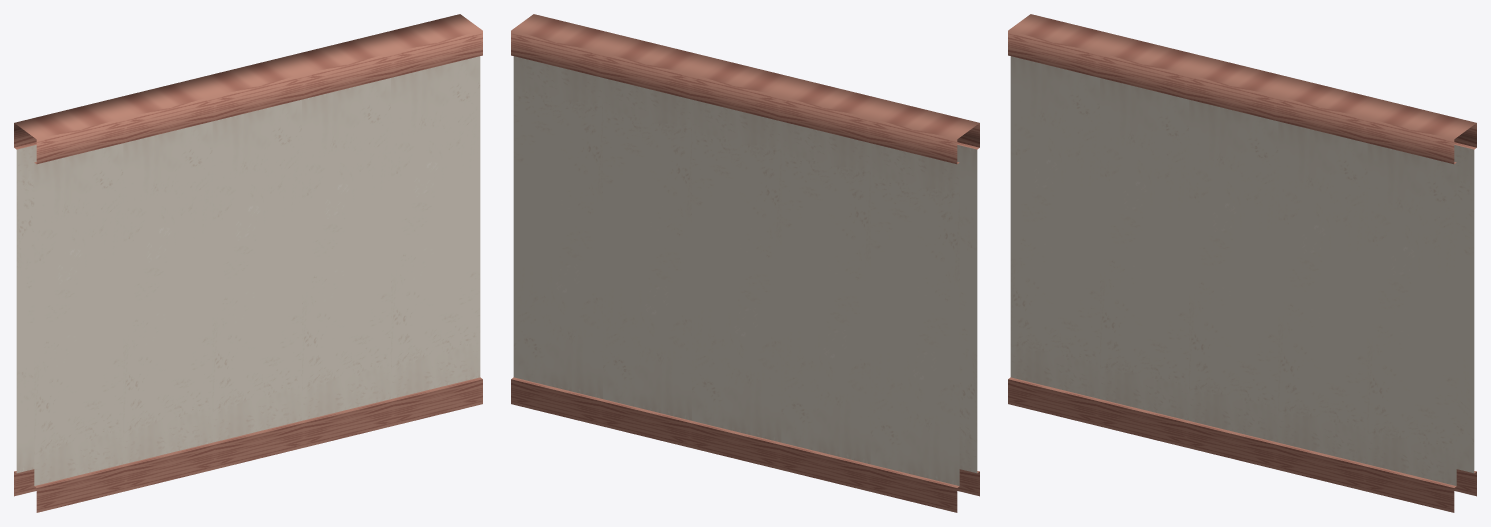
The model's file is paret_base_x5.fbx.
3 renders of one model, left to right at view 1: azimuth 30°, elevation 25°; view 2: azimuth 150°, elevation 25°; view 3: azimuth 330°, elevation 25°, orthographic.
Visible parts, largest first — view 1: Pared_Base_x5; view 2: Pared_Base_x5; view 3: Pared_Base_x5.
Part boxes in pixels (left/top/right/bottom): Pared_Base_x5: left=14, top=14, right=482, bottom=512; Pared_Base_x5: left=511, top=14, right=979, bottom=512; Pared_Base_x5: left=1008, top=14, right=1476, bottom=512.
Bounding box in the file's own units: 500 × 400 × 44.
